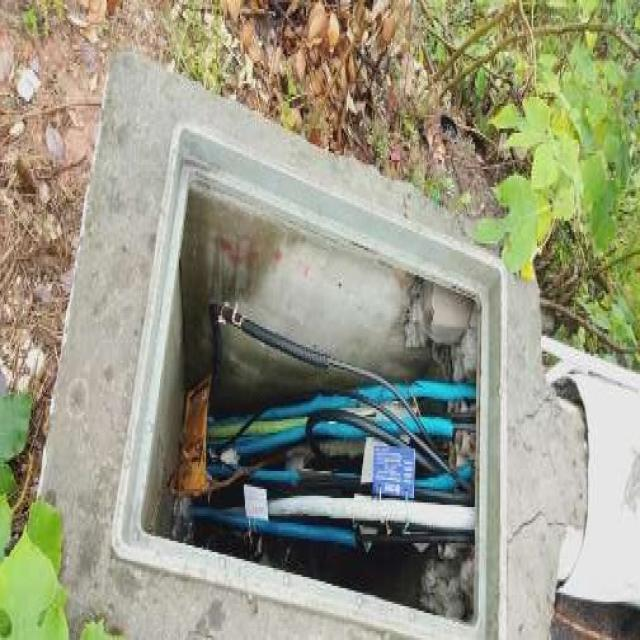Faulty: (110, 117, 507, 638)
